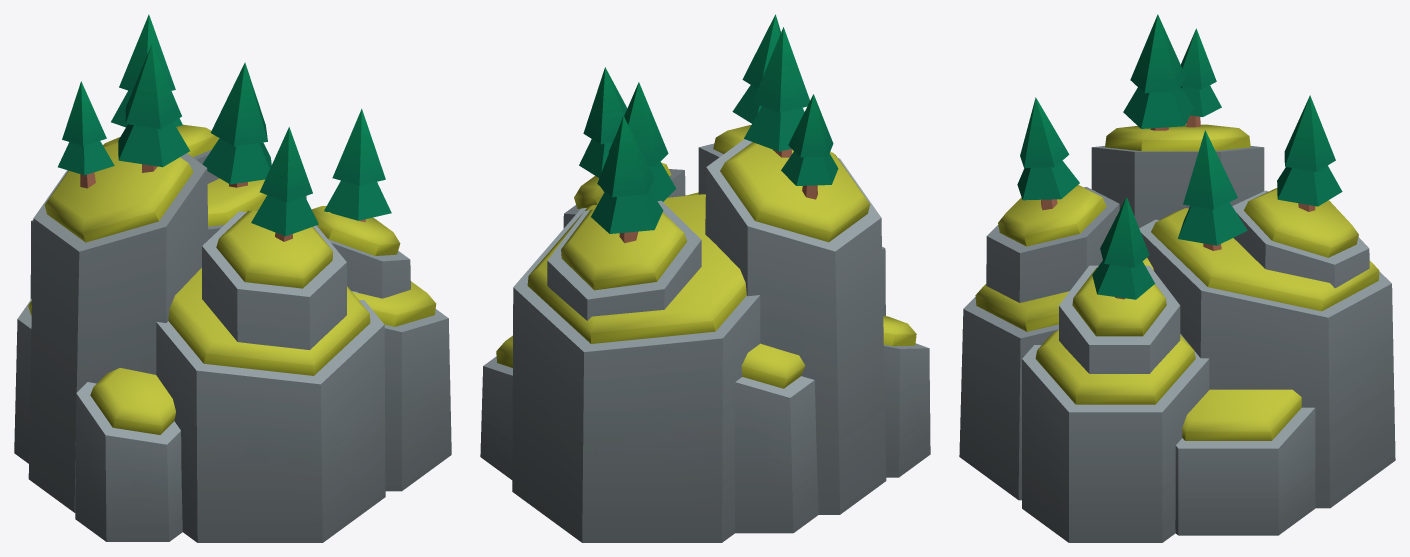
Rendered from kaykit-medieval-hexagon-pack-mountain-c-grass-trees.glb.
3 views of the same model, side by side, from view 1: azimuth 30°, elevation 25°; view 2: azimuth 150°, elevation 25°; view 3: azimuth 270°, elevation 25° (orthographic). The views are drawn at different scales.
Parts seen in each view (by area): view 1: mountain_C_grass_trees; view 2: mountain_C_grass_trees; view 3: mountain_C_grass_trees.
Part boxes in pixels (box(x1,y1,x2,y2)): mountain_C_grass_trees: box(14, 14, 451, 542); mountain_C_grass_trees: box(480, 14, 930, 542); mountain_C_grass_trees: box(959, 14, 1395, 542).
Size of the model in its own units: 1.76 by 2.11 by 2.02.
Materials: 1 (1 with a texture image).
